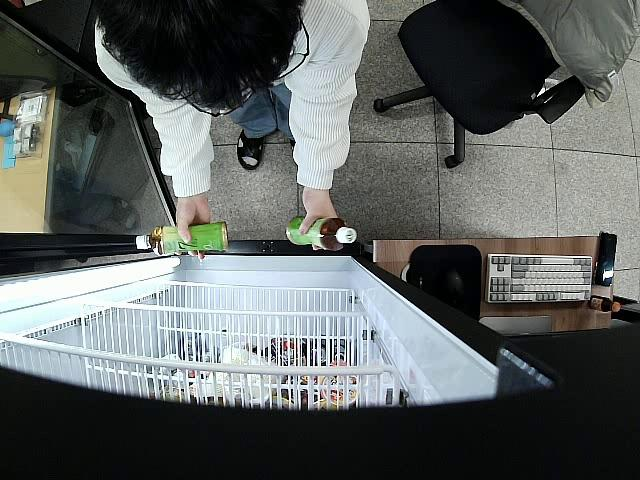00_hand: (299, 189, 343, 251), (176, 202, 211, 261)
19_17cha: (136, 221, 229, 255), (285, 217, 356, 248)
